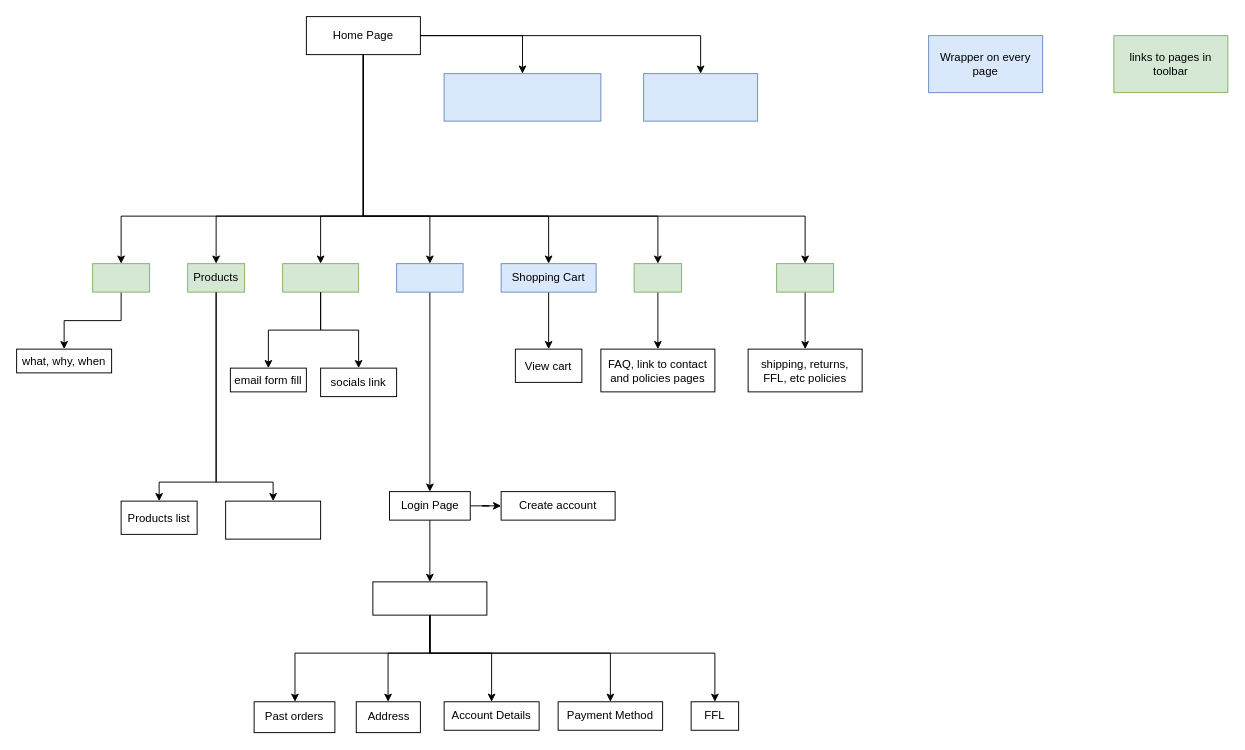
The diagram is 1245 pixels wide and 750 high, and some of its shapes have lost their labels. Each missing label, with the centre of its shape:
"About us" belongs at point 121,277.
"Account" belongs at point 429,277.
"Account overview" belongs at point 429,598.
"Contact us" belongs at point 320,277.
"Footer: socials link, email" belongs at point 700,97.
"Header: logo, pages toolbar, searchbar, account, shopping cart" belongs at point 522,97.
"Help" belongs at point 657,277.
"Policies" belongs at point 805,277.
"Products search" belongs at point 273,519.
